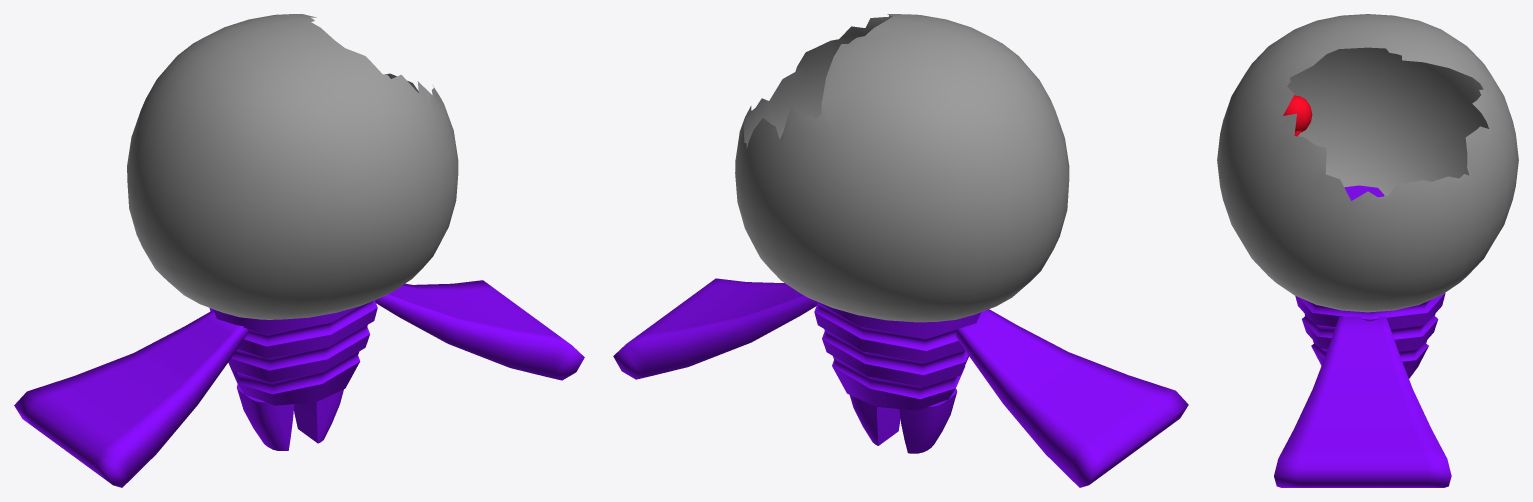
The model's file is BulbCharacterLow.fbx.
3 renders of one model, left to right at view 1: azimuth 30°, elevation 25°; view 2: azimuth 150°, elevation 25°; view 3: azimuth 270°, elevation 25°, orthographic. The views are drawn at different scales.
Visible parts, largest first — view 1: Head001, LeftArm003, Body001, LeftArm001, RightLeg001, LeftLeg001; view 2: Head001, LeftArm003, Body001, LeftArm001, RightLeg001, LeftLeg001; view 3: Head001, LeftArm001, Body001, LeftEye003, Object001.
Boxes of the visible parts, bbox=[...] form: Head001: bbox=[127, 14, 458, 319]; LeftArm003: bbox=[14, 310, 248, 487]; Body001: bbox=[209, 300, 377, 405]; LeftArm001: bbox=[375, 280, 584, 380]; RightLeg001: bbox=[236, 384, 294, 450]; LeftLeg001: bbox=[294, 389, 343, 443]; Head001: bbox=[735, 14, 1069, 322]; LeftArm003: bbox=[955, 309, 1188, 487]; Body001: bbox=[814, 300, 980, 410]; LeftArm001: bbox=[613, 278, 817, 379]; RightLeg001: bbox=[899, 389, 957, 453]; LeftLeg001: bbox=[849, 395, 900, 445]; Head001: bbox=[1217, 14, 1518, 312]; LeftArm001: bbox=[1274, 316, 1451, 487]; Body001: bbox=[1295, 293, 1445, 378]; LeftEye003: bbox=[1283, 95, 1312, 132]; Object001: bbox=[1344, 185, 1384, 200].
Bounding box in the file's own units: 57.03 × 32.83 × 46.42.
